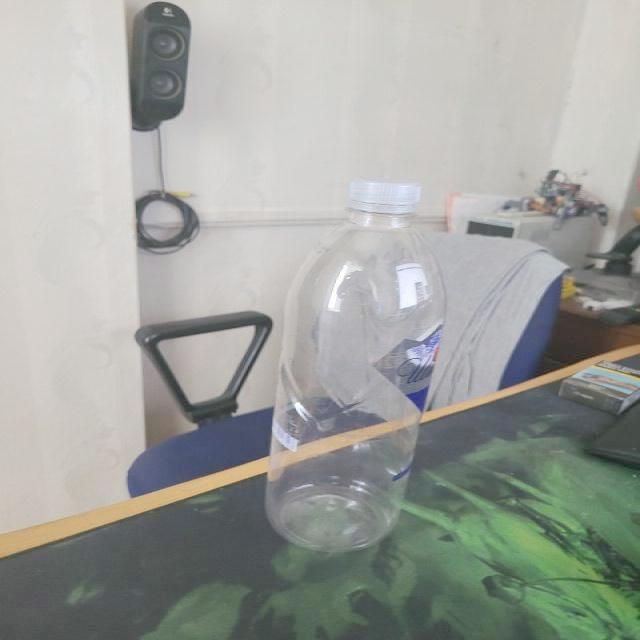bottle: (265, 180, 447, 552)
